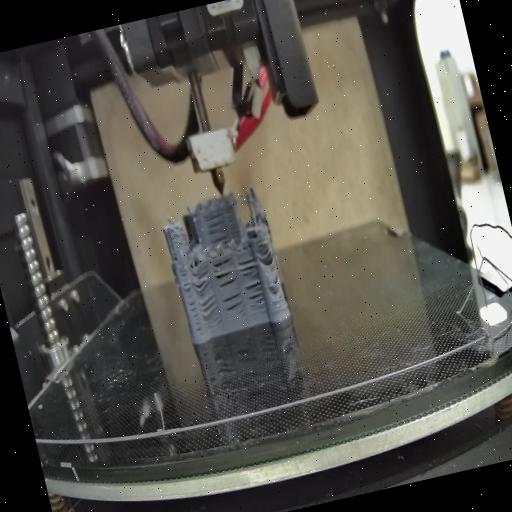cracks: (238, 254, 266, 308), (181, 274, 202, 332), (210, 252, 240, 290), (204, 210, 232, 246), (197, 294, 222, 326), (221, 292, 248, 319), (190, 268, 214, 294), (262, 242, 276, 262), (271, 272, 284, 288), (172, 250, 182, 265)
